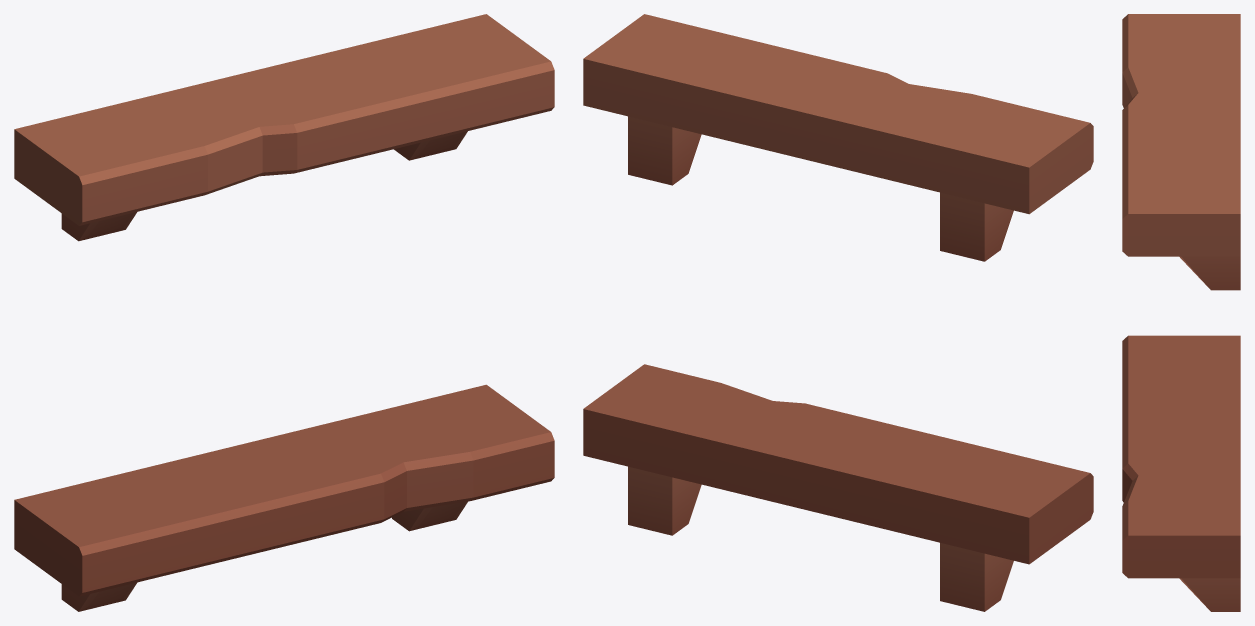
File: shelves.gltf
3 views of the same model, side by side, from view 1: azimuth 30°, elevation 25°; view 2: azimuth 150°, elevation 25°; view 3: azimuth 270°, elevation 25° (orthographic). The views are drawn at different scales.
Visible parts, largest first — view 1: shelves; view 2: shelves; view 3: shelves.
Part boxes in pixels (box(x1,y1,x2,y2)): shelves: box(14, 14, 554, 611); shelves: box(583, 14, 1093, 611); shelves: box(1122, 14, 1240, 611).
Size of the model in its own units: 2 by 1.95 by 0.5.
Materials: 1 (1 with a texture image).
